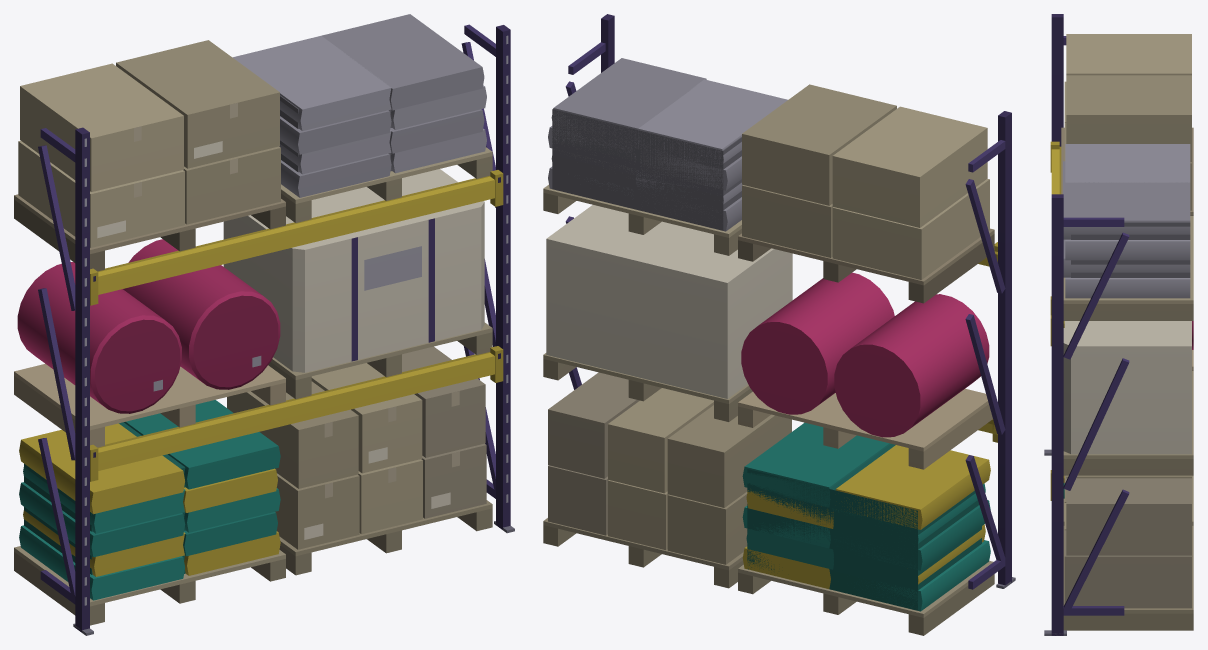
Rendered from pallet_racking.glb.
The picture shows the model from 3 angles, left to right: view 1: azimuth 30°, elevation 25°; view 2: azimuth 150°, elevation 25°; view 3: azimuth 270°, elevation 25°; orthographic projection. The views are drawn at different scales.
Parts seen in each view (by area): view 1: pallet_racking; view 2: pallet_racking; view 3: pallet_racking.
Part boxes in pixels (bbox=[...]): pallet_racking: bbox=[14, 14, 514, 635]; pallet_racking: bbox=[543, 14, 1015, 635]; pallet_racking: bbox=[1044, 14, 1193, 635].
Bounding box in the file's own units: 2.7 × 3 × 0.925.
